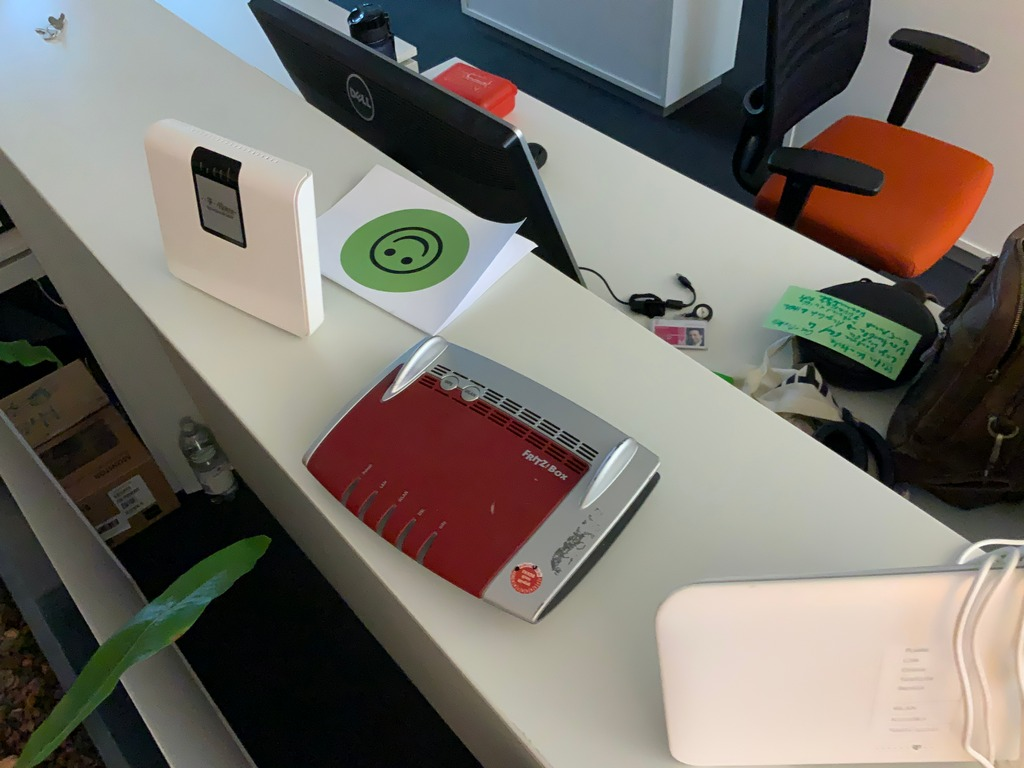Router2: (147, 117, 321, 342)
router: (662, 571, 1020, 768)
router3: (304, 338, 662, 627)
